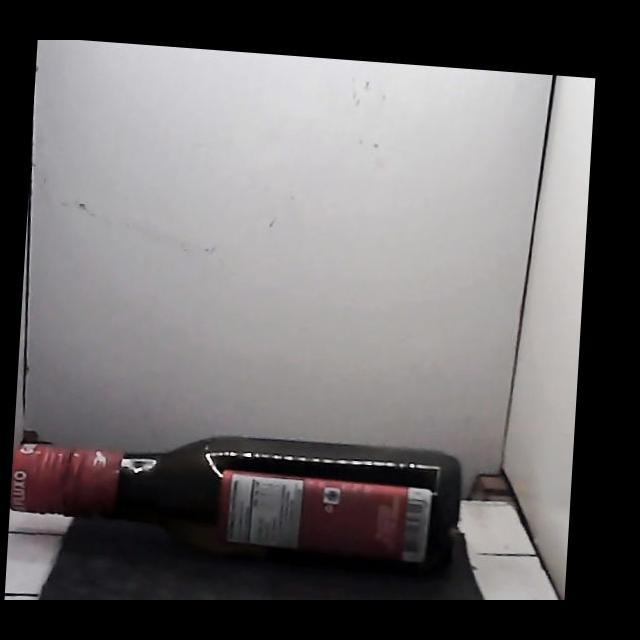vidro: (10, 436, 460, 571)
